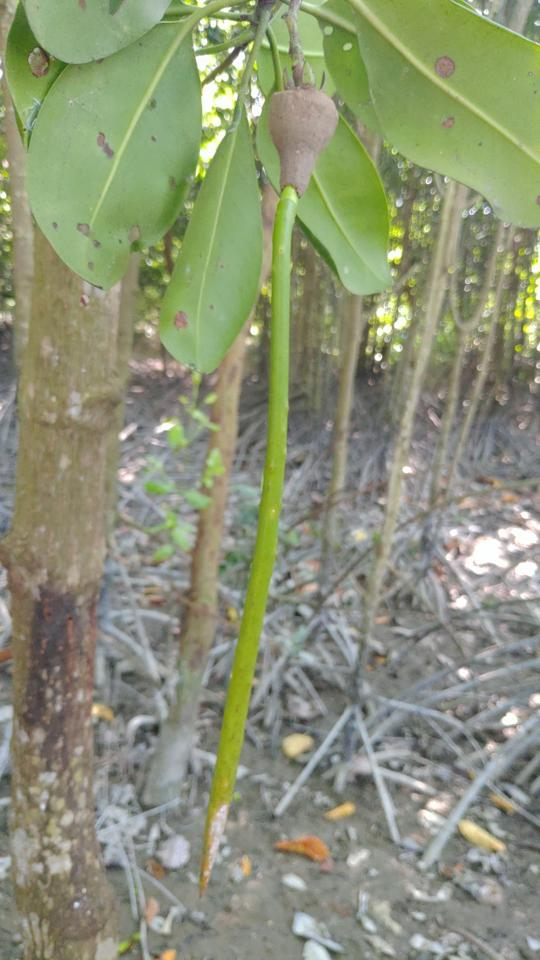setengah matang: (189, 58, 355, 907)
